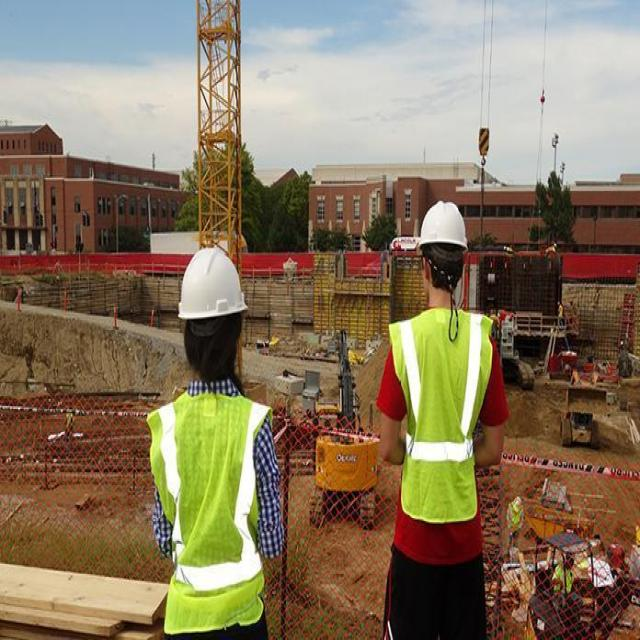Vest: (146, 385, 272, 637), (386, 306, 495, 520)
